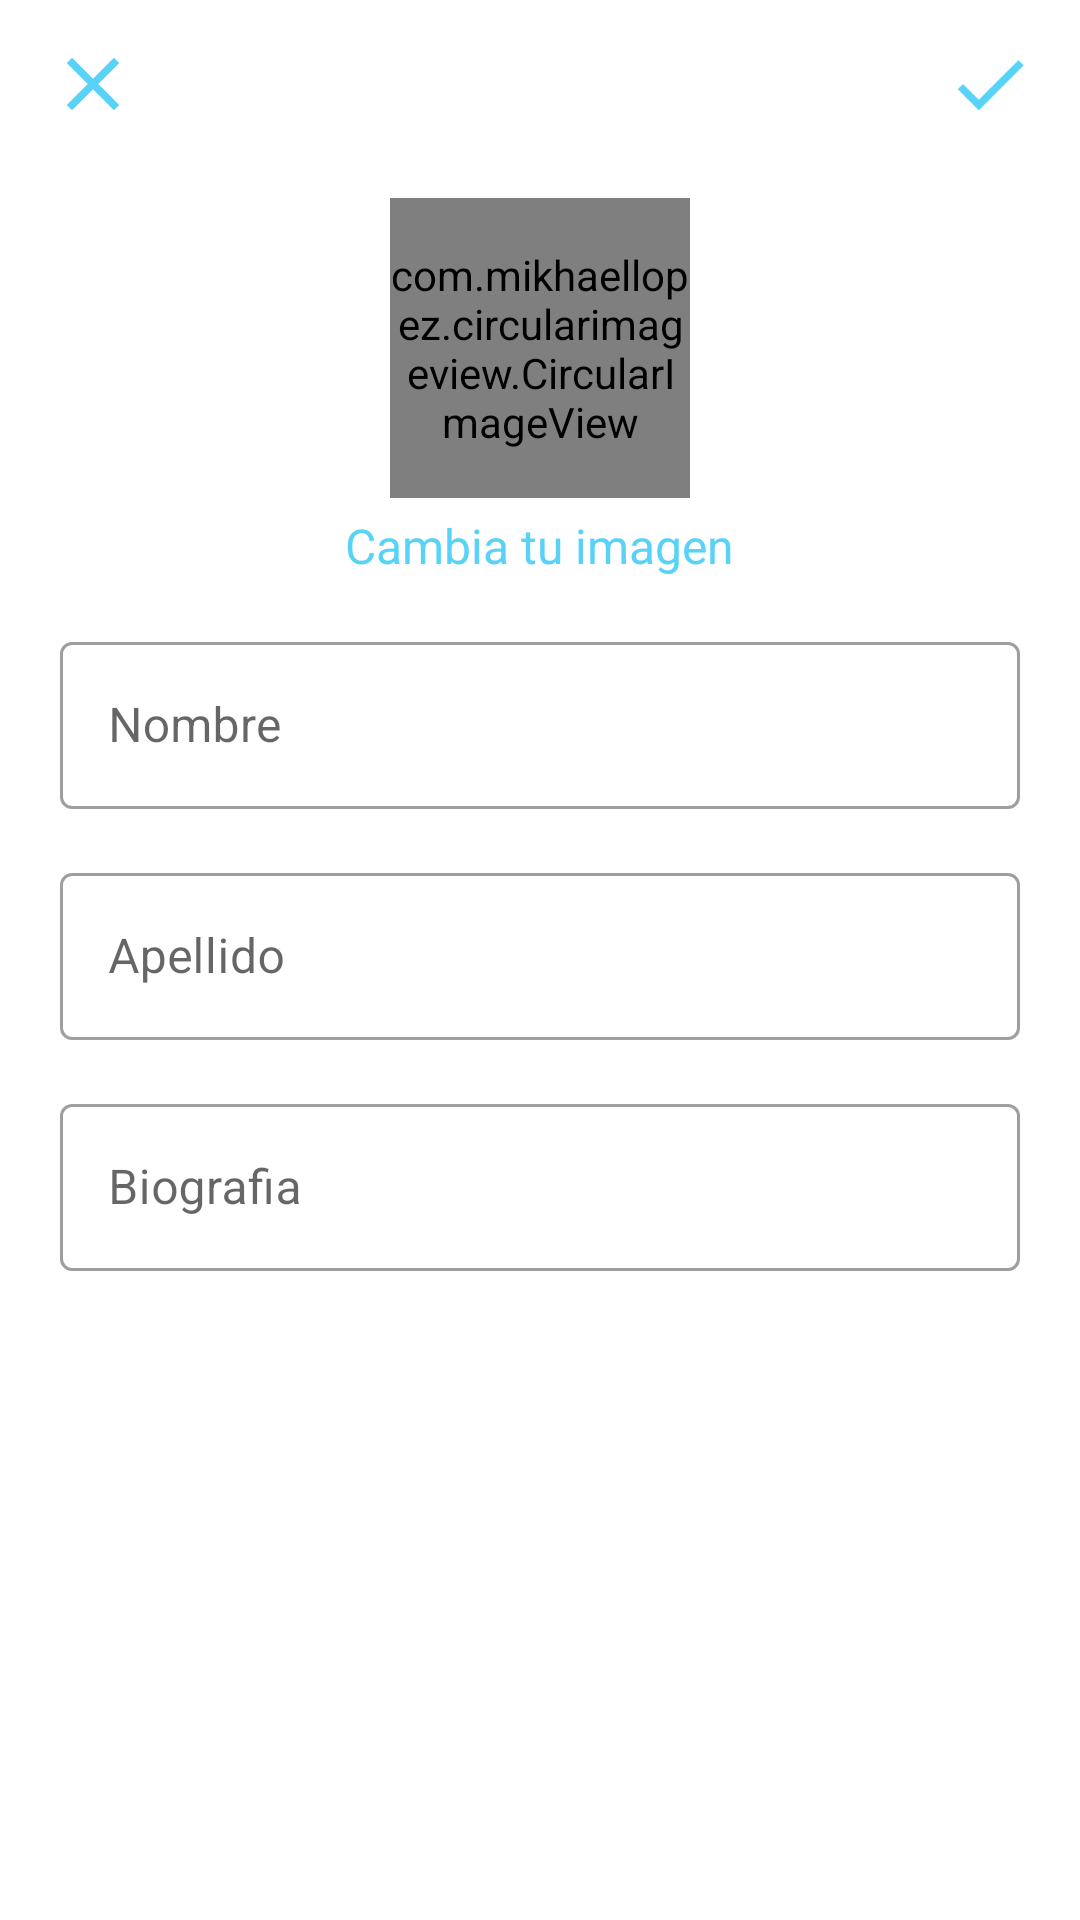

Named icons in this screenshot (1080w x 1920h) and their centers, (x=x, y=y):
close: (x=93, y=84)
done: (x=991, y=85)
